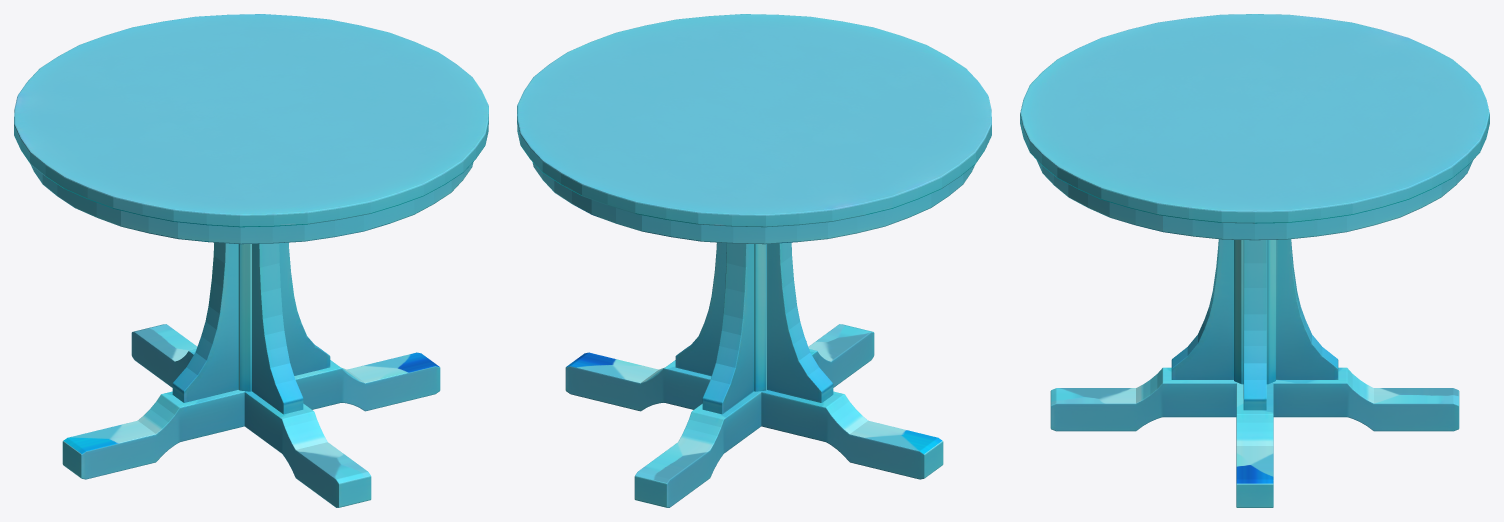
The model's file is edited_mesh.glb.
The picture shows the model from 3 angles, left to right: view 1: azimuth 30°, elevation 25°; view 2: azimuth 150°, elevation 25°; view 3: azimuth 270°, elevation 25°; orthographic projection.
Visible parts, largest first — view 1: normalized_model.obj; view 2: normalized_model.obj; view 3: normalized_model.obj.
Part boxes in pixels (x1,y1,x2,y2): normalized_model.obj: [14, 14, 488, 507]; normalized_model.obj: [517, 14, 991, 507]; normalized_model.obj: [1020, 14, 1489, 507].
Size of the model in its own units: 1.62 by 1.19 by 1.62.
Materials: 1 (1 with a texture image).
